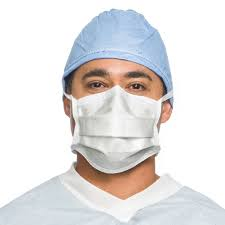Mask: (67, 55, 165, 172)
